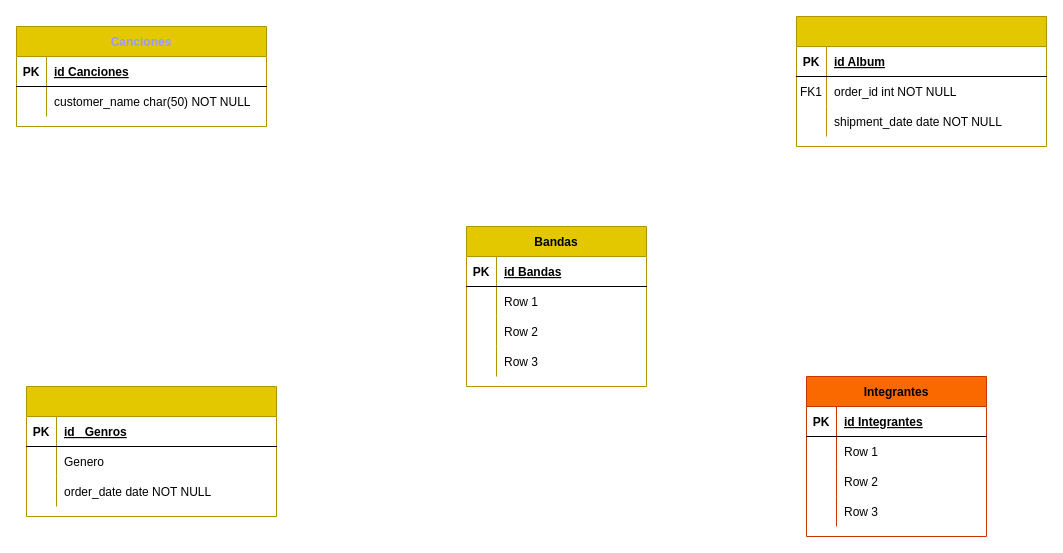
The diagram is 1063 pixels wide and 553 high, and some of its shapes have lost their labels. Each missing label, with the box of its shape:
Albumes: (796, 16, 1046, 146)
Generos: (26, 386, 276, 516)
